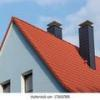chimneys: (78, 20, 96, 70), (46, 20, 62, 40)
